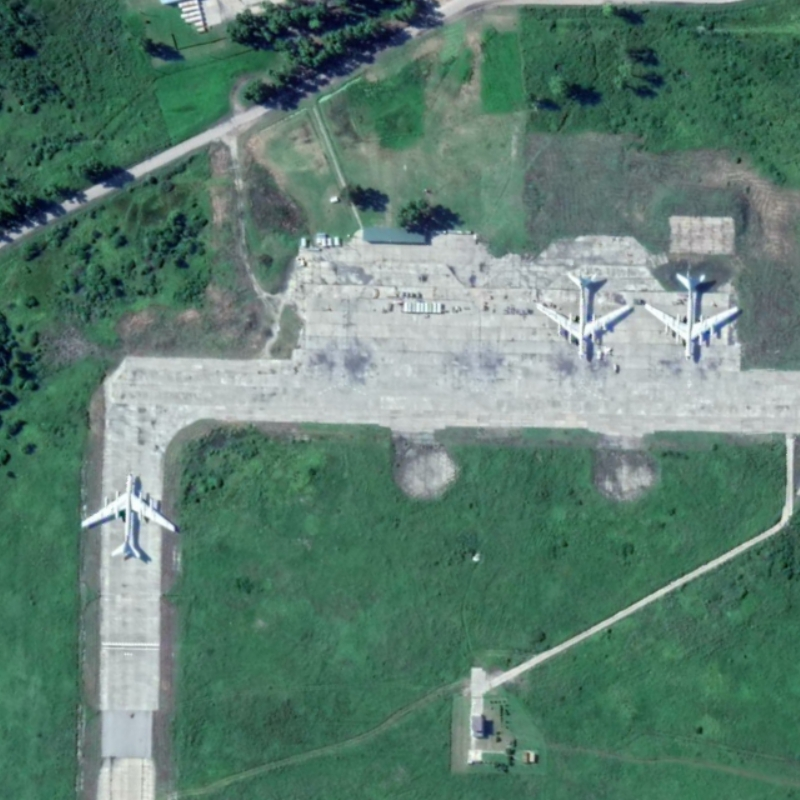A17: (643, 268, 741, 363), (534, 270, 633, 362), (79, 472, 178, 560)
